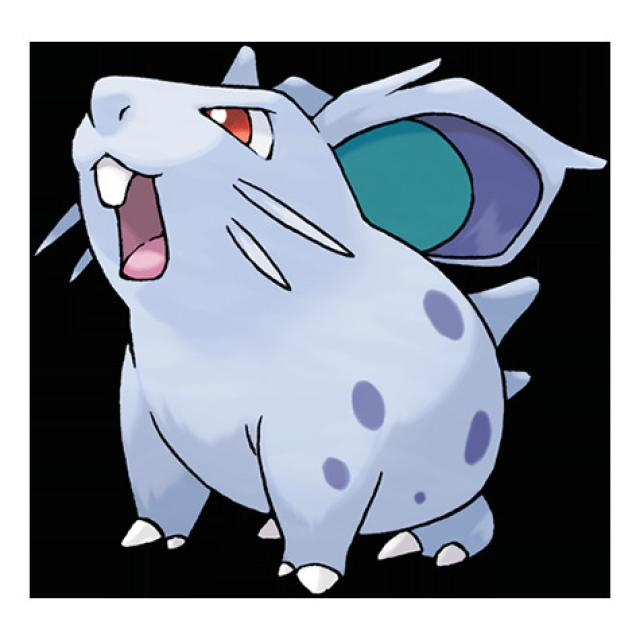Nidorina: (35, 47, 608, 595)
